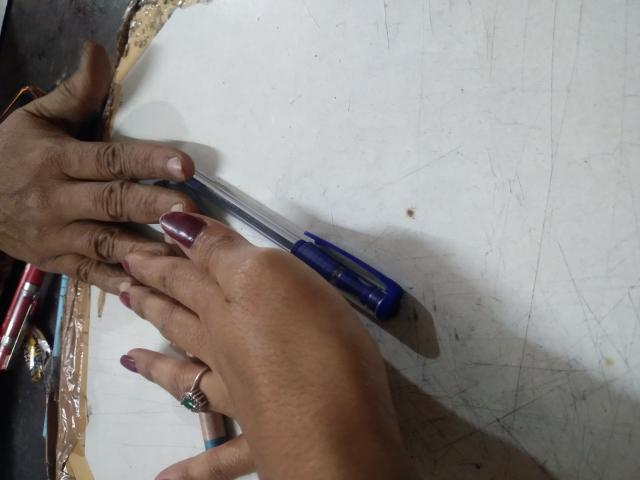PEN: (149, 183, 329, 433)
